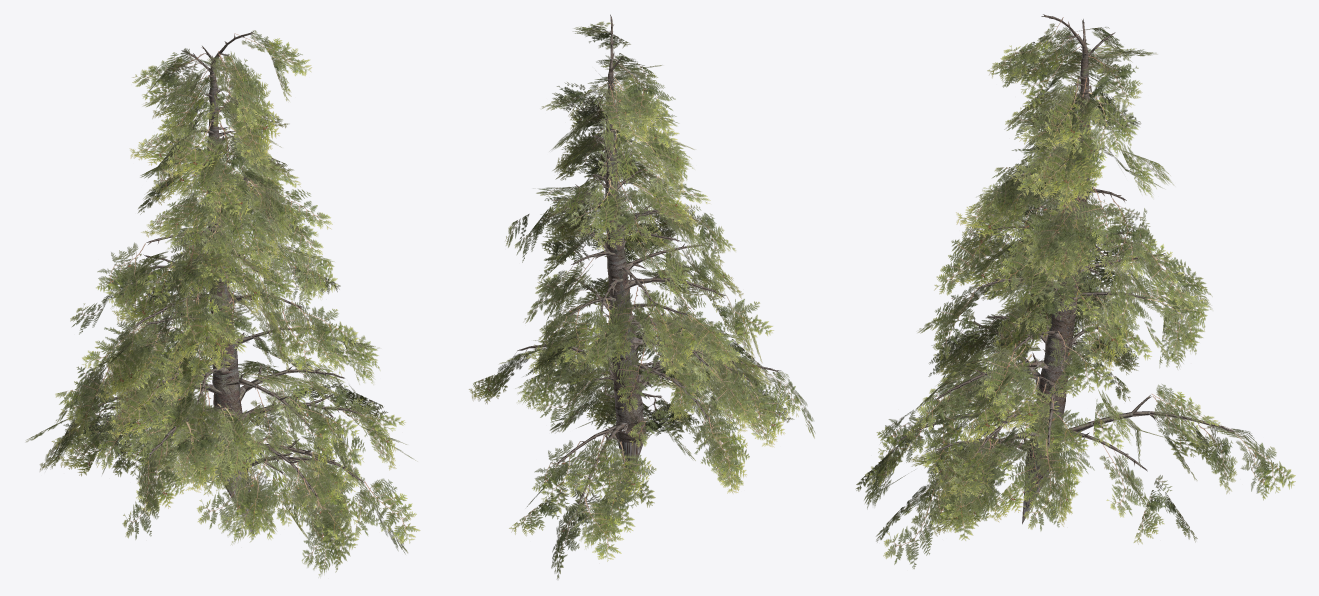
The model's file is conifer.glb.
3 renders of one model, left to right at view 1: azimuth 30°, elevation 25°; view 2: azimuth 150°, elevation 25°; view 3: azimuth 270°, elevation 25°, orthographic. The views are drawn at different scales.
Visible parts, largest first — view 1: Object_7, Object_3, Object_4, Object_9, Object_5, Object_8, Object_6, Object_2; view 2: Object_5, Object_7, Object_3, Object_6, Object_9, Object_4, Object_2, Object_8; view 3: Object_4, Object_7, Object_5, Object_6, Object_3, Object_9, Object_8, Object_2.
Boxes of the visible parts, left/top/right/bottom form: Object_7: left=39, top=67, right=397, bottom=546; Object_3: left=95, top=94, right=380, bottom=577; Object_4: left=63, top=69, right=405, bottom=552; Object_9: left=26, top=34, right=420, bottom=544; Object_5: left=46, top=52, right=379, bottom=517; Object_8: left=55, top=30, right=415, bottom=554; Object_6: left=51, top=39, right=406, bottom=532; Object_2: left=87, top=31, right=364, bottom=537; Object_5: left=505, top=53, right=800, bottom=496; Object_7: left=469, top=77, right=794, bottom=504; Object_3: left=515, top=110, right=772, bottom=548; Object_6: left=509, top=26, right=771, bottom=541; Object_9: left=486, top=26, right=745, bottom=561; Object_4: left=499, top=70, right=773, bottom=579; Object_2: left=517, top=14, right=780, bottom=504; Object_8: left=479, top=21, right=815, bottom=482; Object_4: left=856, top=42, right=1295, bottom=540; Object_7: left=910, top=49, right=1171, bottom=536; Object_5: left=905, top=48, right=1208, bottom=528; Object_6: left=933, top=27, right=1237, bottom=544; Object_3: left=864, top=86, right=1226, bottom=513; Object_9: left=865, top=26, right=1260, bottom=542; Object_8: left=872, top=17, right=1195, bottom=568; Object_2: left=897, top=14, right=1235, bottom=524.
Bounding box in the file's own units: 8.4 × 11.96 × 9.35.
8 materials, 8 textured.
